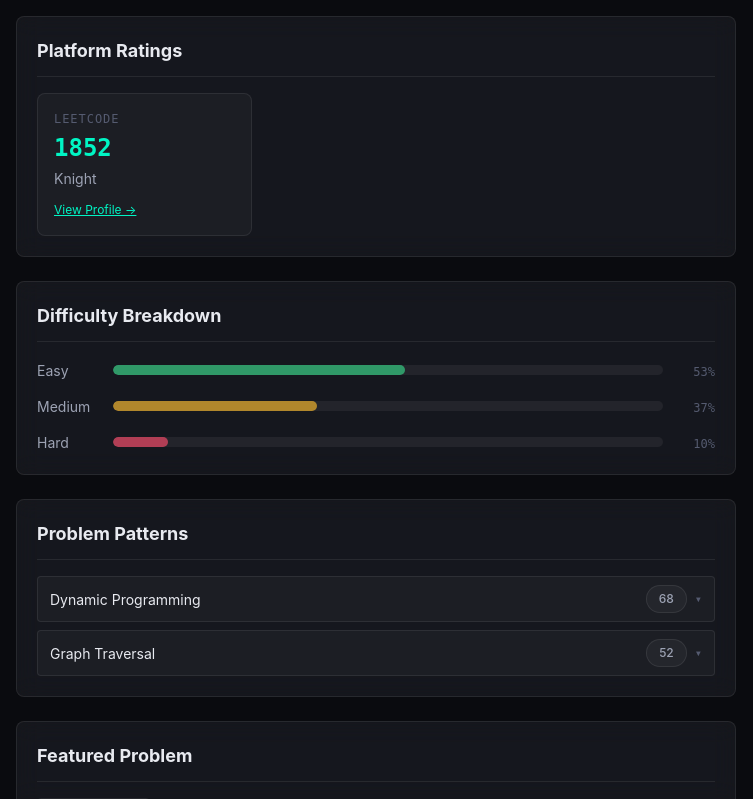
Test case: ArenaZone › reveals problem refs on pattern click
This screenshot has width=753, height=799.
Expected: the element with test id "refs-Dynamic Programming" is not shown
Step 1. Click the button "Dynamic Programming 68 ▾" → (125, 599), box 37,576 -> 715,622
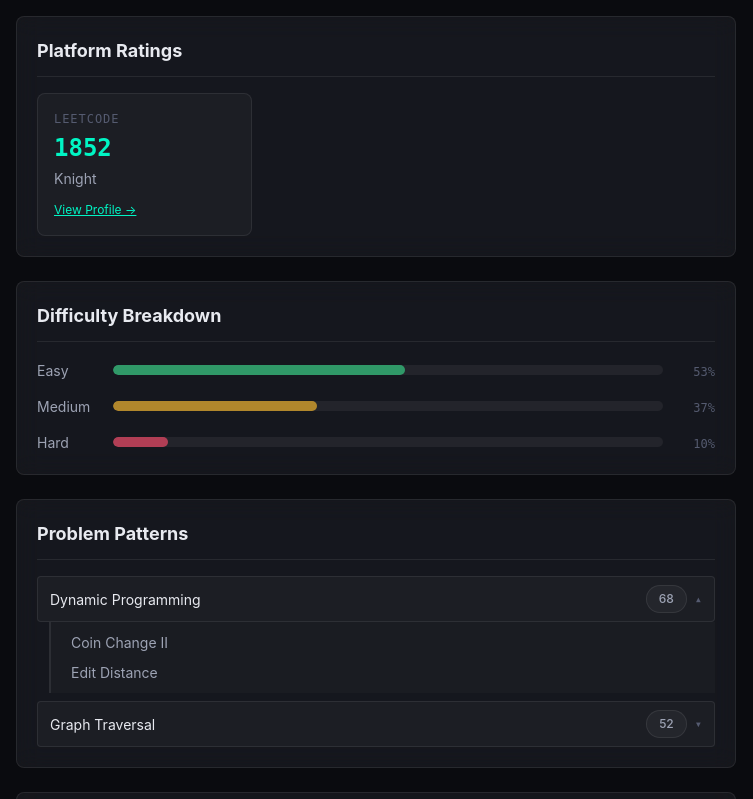
Now the list with test id "refs-Dynamic Programming" is shown, box 49,622 -> 715,693
Now the text "Coin Change II" is shown, box 71,634 -> 168,651
